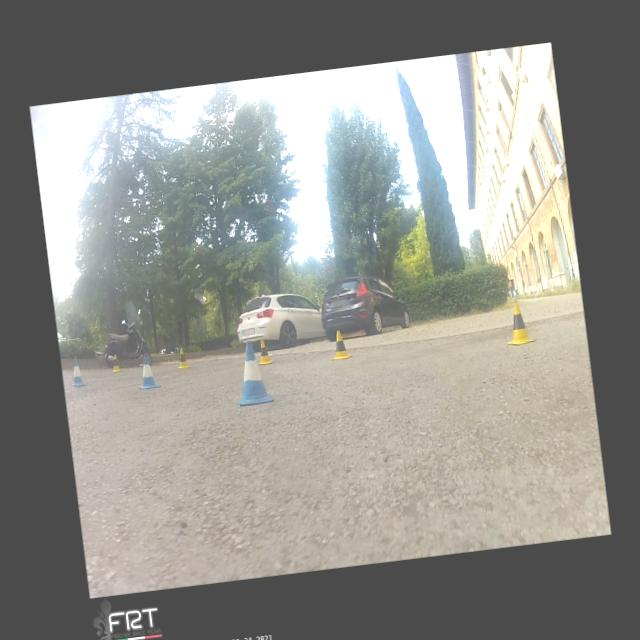blue_cone: (232, 338, 274, 406), (134, 352, 161, 389), (68, 356, 86, 386)
yellow_cone: (502, 298, 536, 346), (328, 328, 352, 359), (254, 338, 275, 366), (174, 345, 191, 369), (108, 353, 122, 373)
